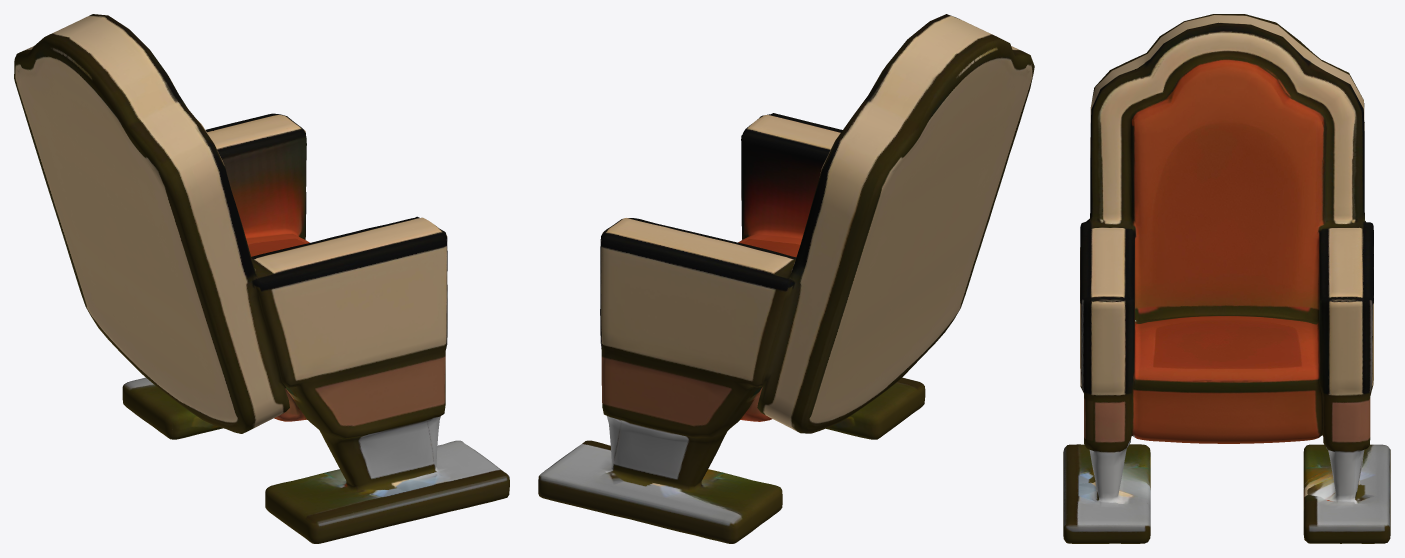
File: tripo_convert_6b109b73-3709-444c-8eb8-9b6703a81ae1.obj
3 views of the same model, side by side, from view 1: azimuth 30°, elevation 25°; view 2: azimuth 150°, elevation 25°; view 3: azimuth 270°, elevation 25° (orthographic). The views are drawn at different scales.
Visible parts, largest first — view 1: tripo_node_6b109b73-3709-444c-8eb8-9b6703a81ae1; view 2: tripo_node_6b109b73-3709-444c-8eb8-9b6703a81ae1; view 3: tripo_node_6b109b73-3709-444c-8eb8-9b6703a81ae1.
Part boxes in pixels (x1,y1,x2,y2): tripo_node_6b109b73-3709-444c-8eb8-9b6703a81ae1: (14,14,509,543); tripo_node_6b109b73-3709-444c-8eb8-9b6703a81ae1: (538,14,1034,543); tripo_node_6b109b73-3709-444c-8eb8-9b6703a81ae1: (1063,14,1390,543).
Size of the model in its own units: 0.7605 by 0.9977 by 0.738.
1 material, 1 textured.
